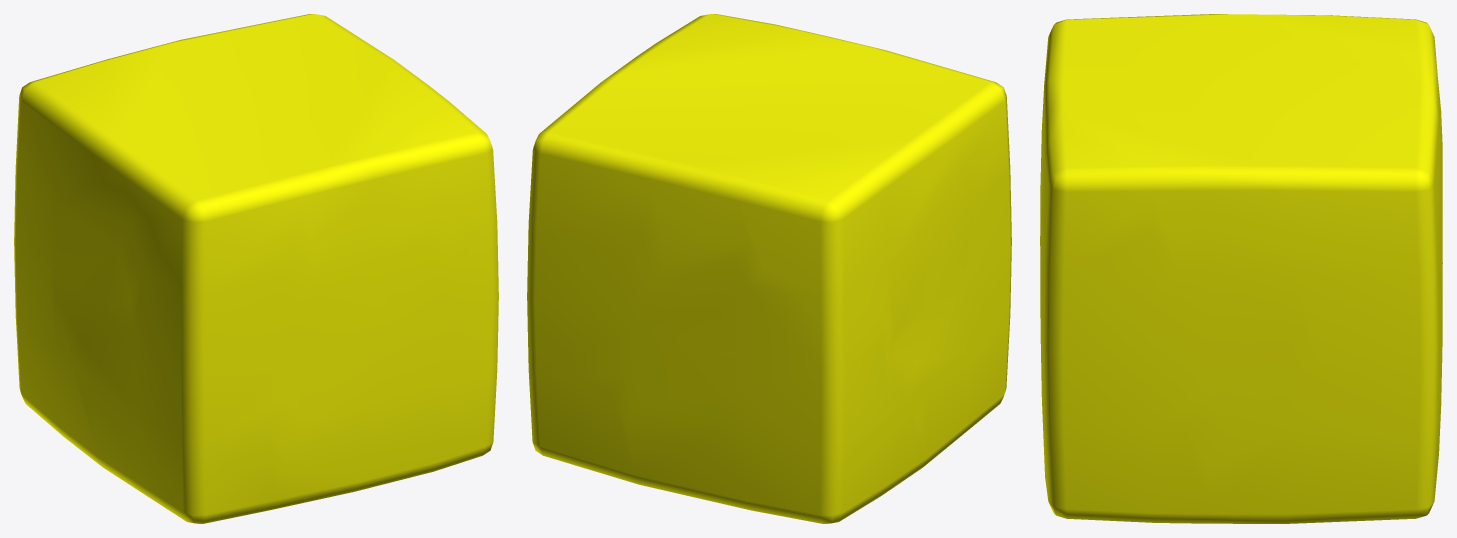
File: ice_cube_2.glb
The picture shows the model from 3 angles, left to right: view 1: azimuth 30°, elevation 25°; view 2: azimuth 150°, elevation 25°; view 3: azimuth 270°, elevation 25°; orthographic projection. The views are drawn at different scales.
Parts seen in each view (by area): view 1: Ice_block_2_LOD0; view 2: Ice_block_2_LOD0; view 3: Ice_block_2_LOD0.
Boxes of the visible parts, box(x1,y1,x2,y2) form: Ice_block_2_LOD0: box(14, 14, 498, 523); Ice_block_2_LOD0: box(527, 14, 1011, 523); Ice_block_2_LOD0: box(1040, 14, 1442, 523).
Size of what is drawn, in the model's own units: 1.09 by 1.08 by 1.09.
Materials: 1 (1 with a texture image).
